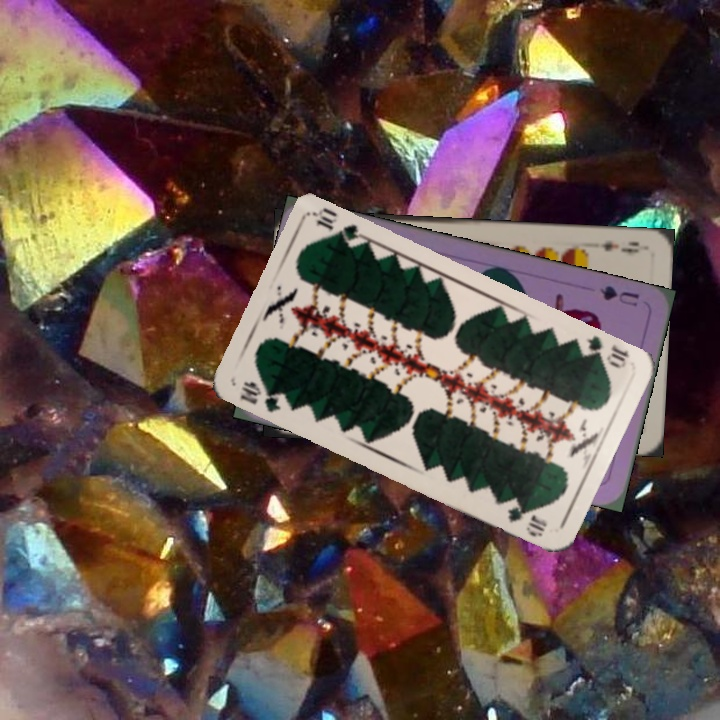E9: (597, 237, 642, 256)
G10: (574, 332, 632, 371), (236, 377, 284, 415)
GU: (595, 281, 642, 309)
